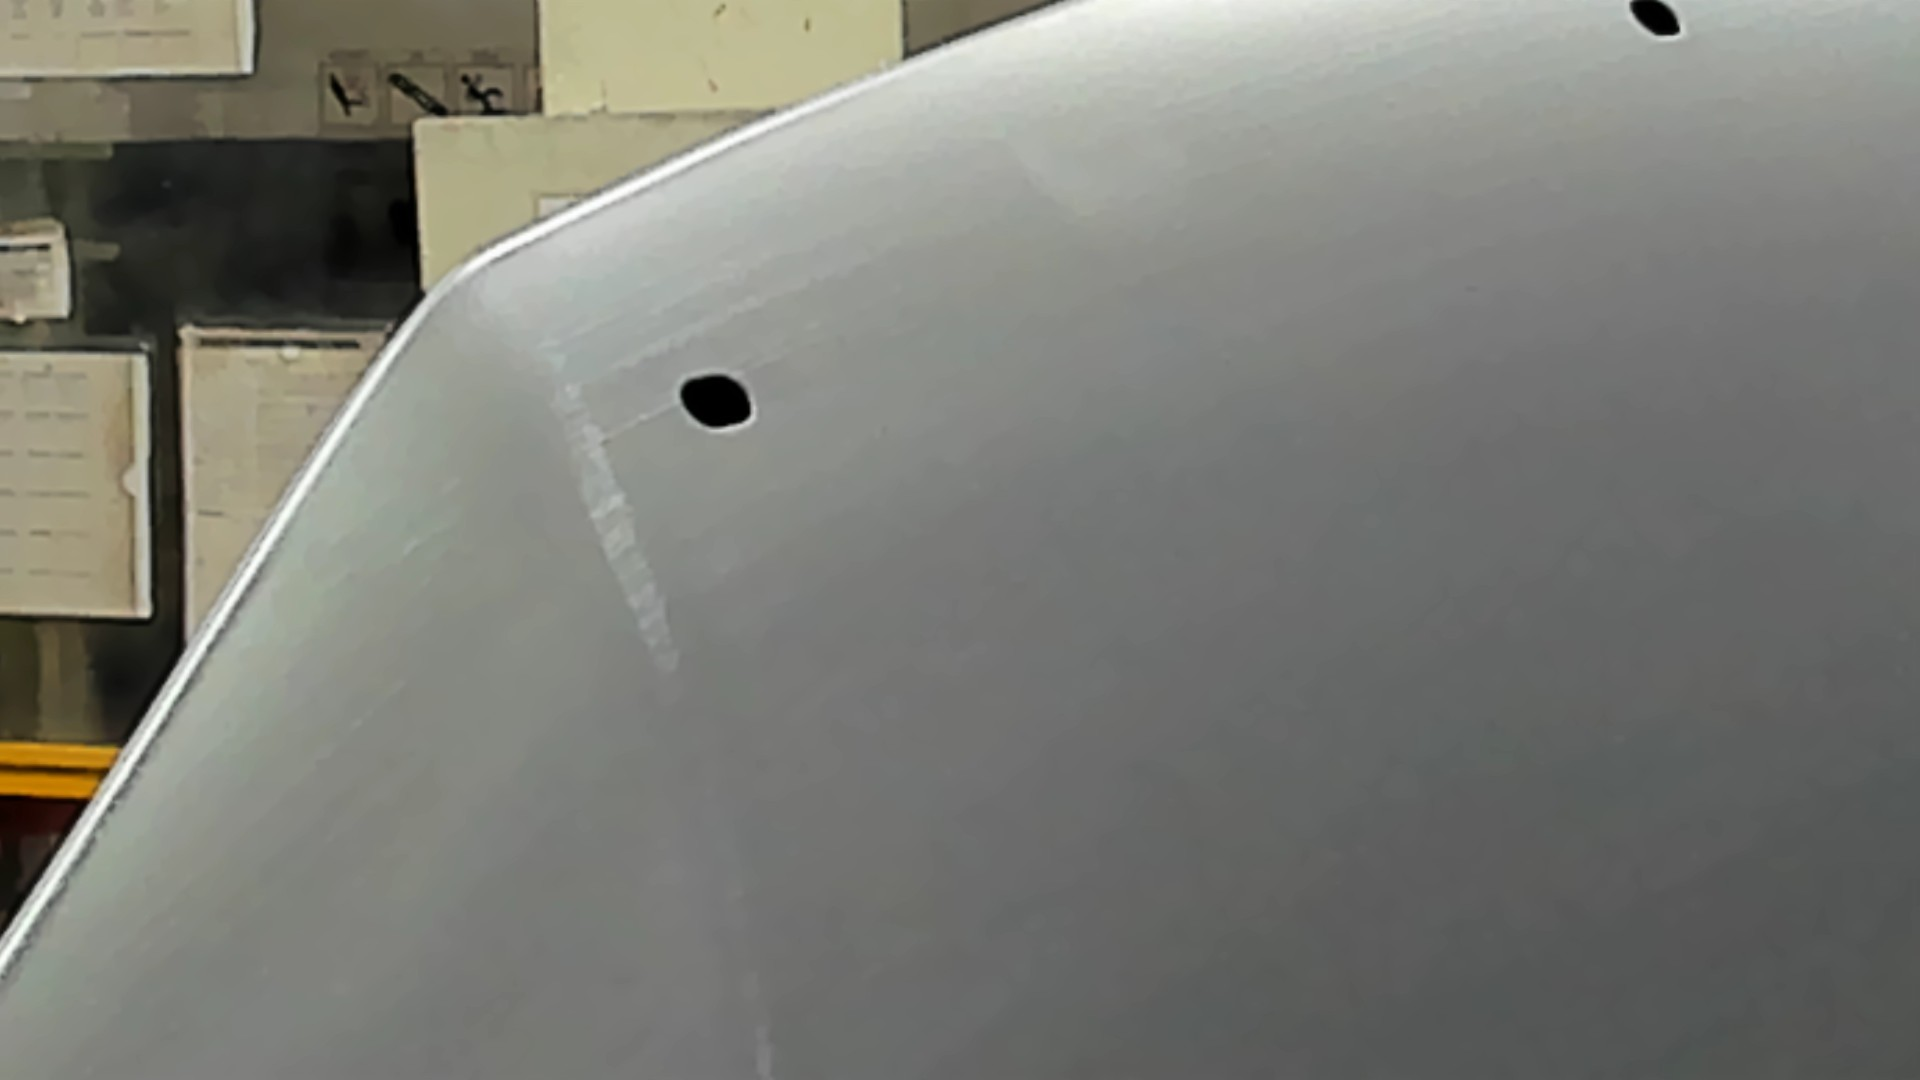amorfo: (673, 367, 757, 436), (1621, 1, 1692, 47)
